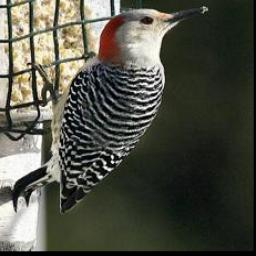Woodpecker: (11, 5, 208, 213)
